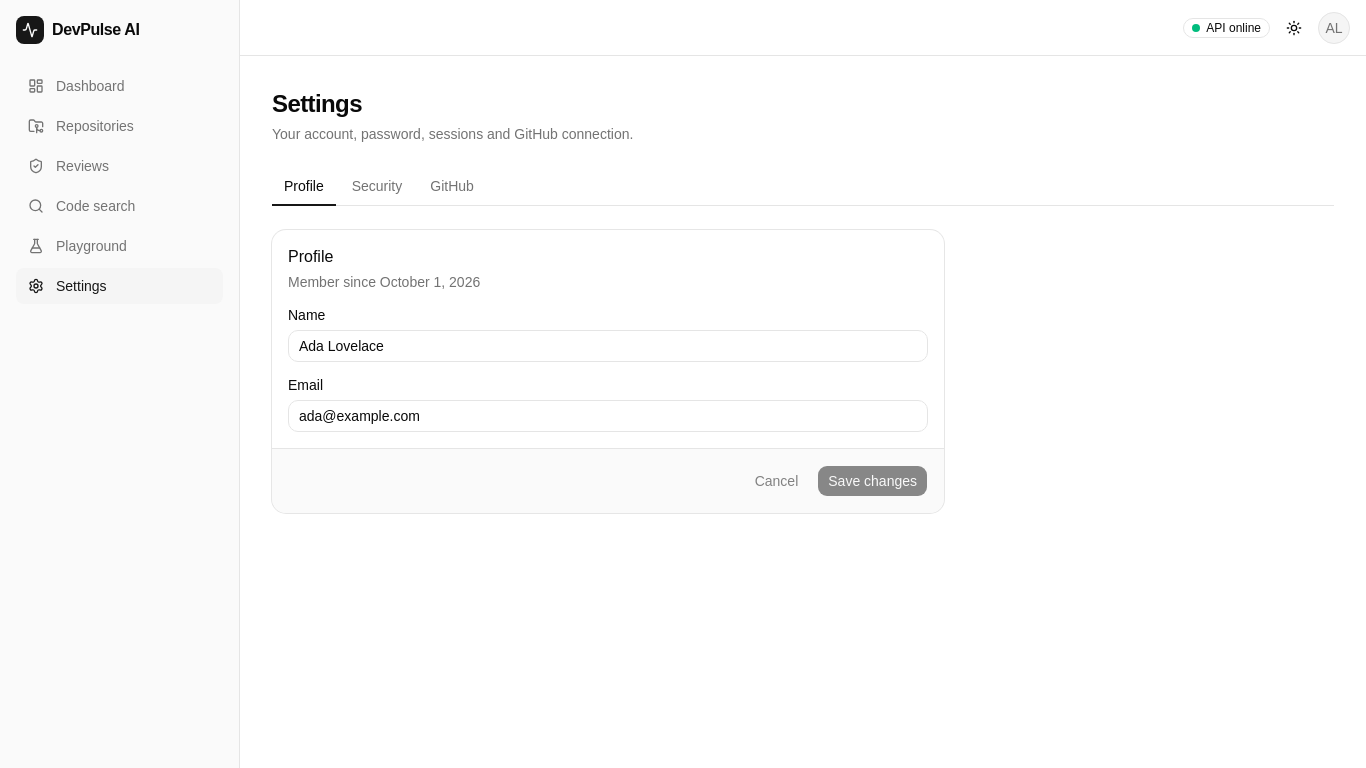
Test case: Profile settings › saves a new name without asking for the password
Replace the text in the field labelled "Name" with "Ada King" at (608, 346), box [288,330,928,362]
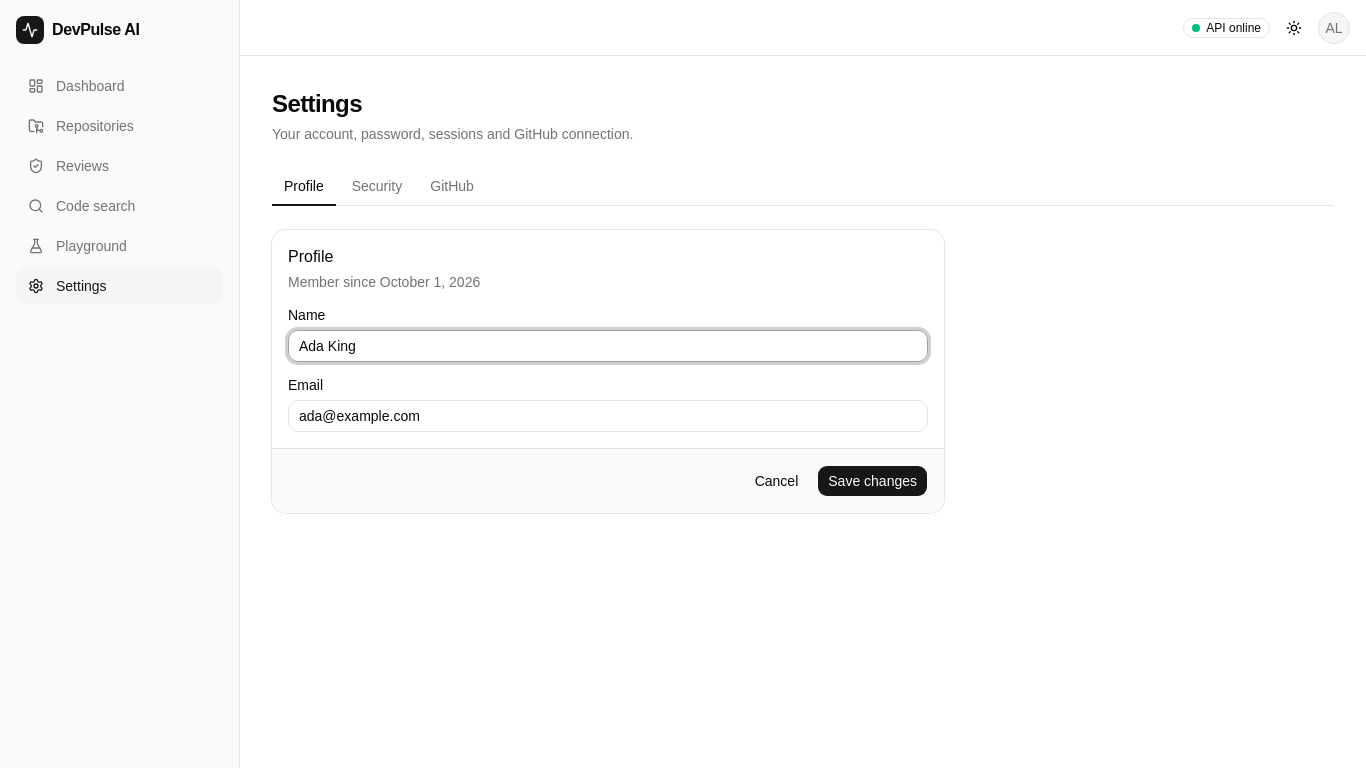
Click the button "Save changes" at (873, 481), box [817,465,928,497]
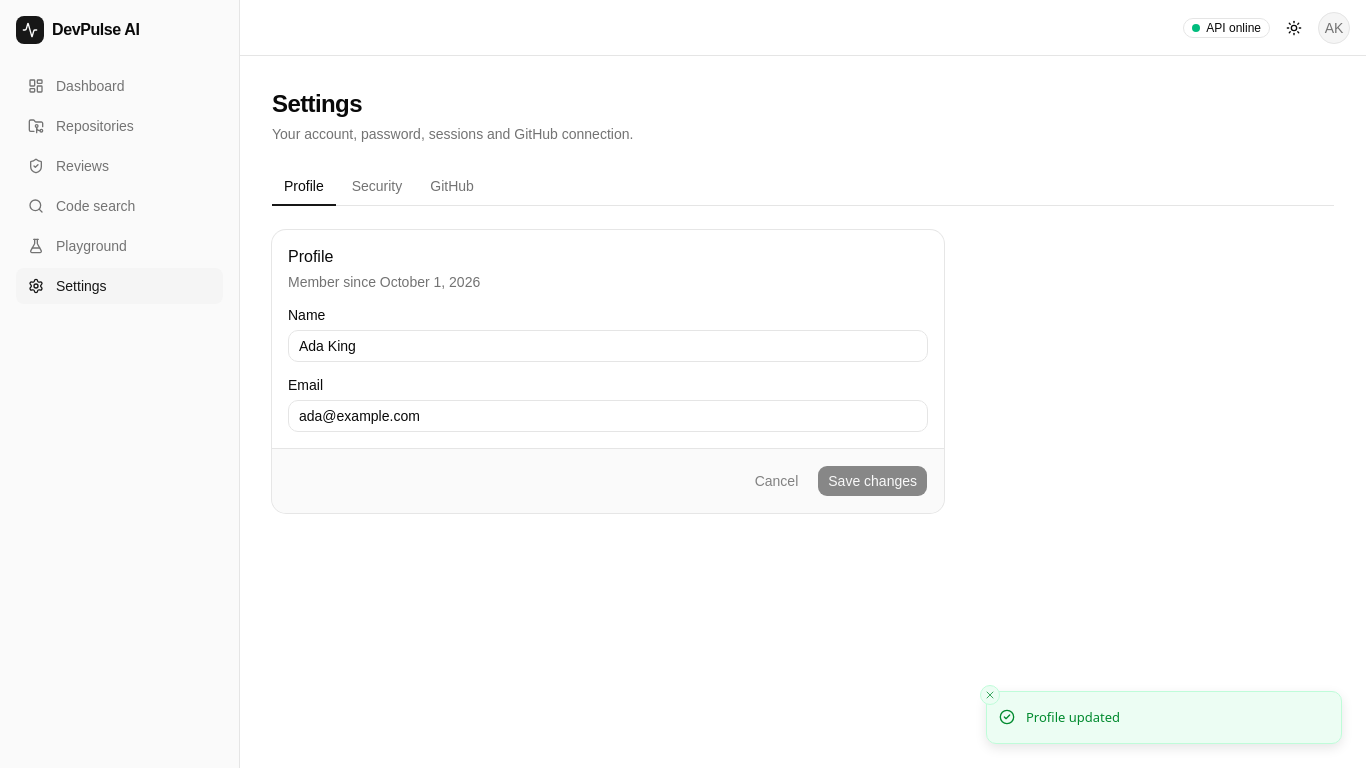
Now the text "Profile updated" is shown, box [1026,708,1120,727]
Now the button "Save changes" is disabled, box [817,465,928,497]
# The account menu shows the new name straight away.
Click the button with aria-label "Account menu" at (1334, 28), box [1318,12,1350,44]
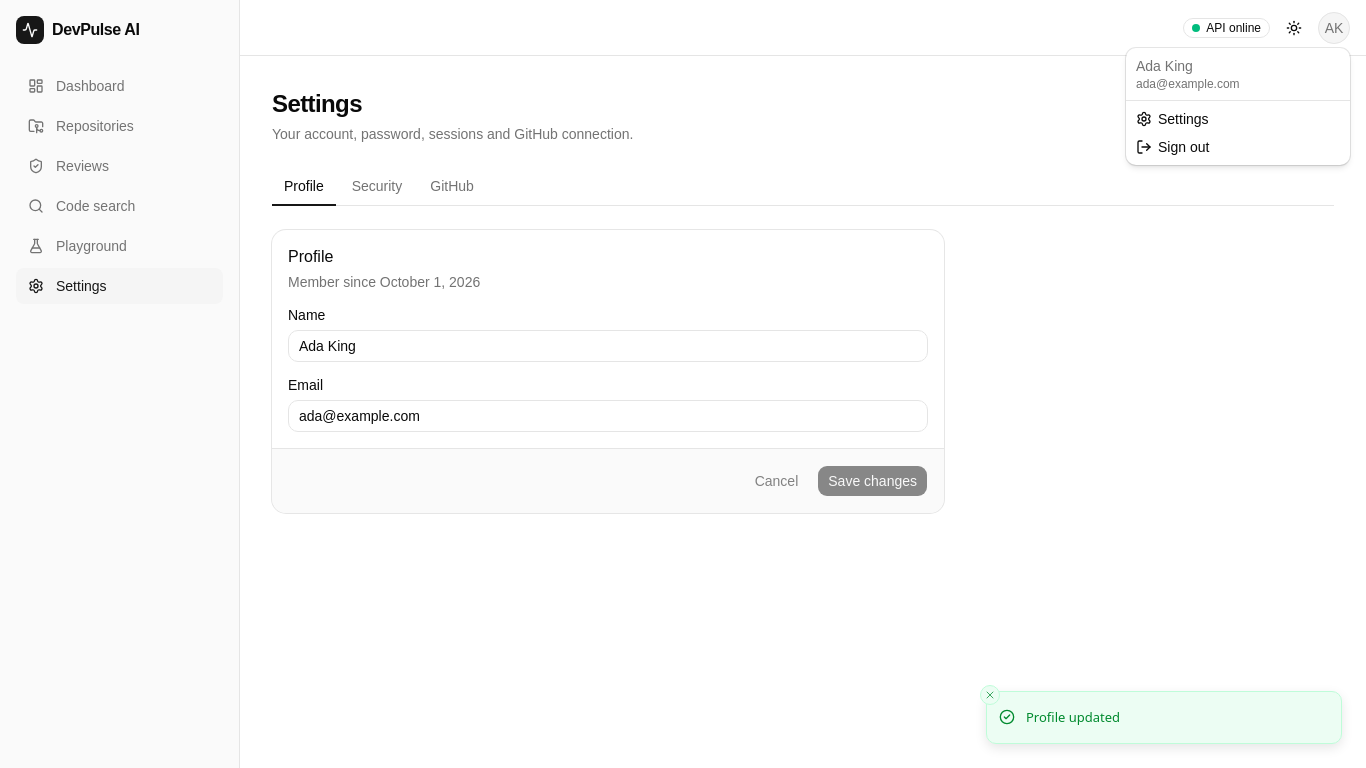
Now the menu shows "Ada King", box [1136,58,1193,74]
